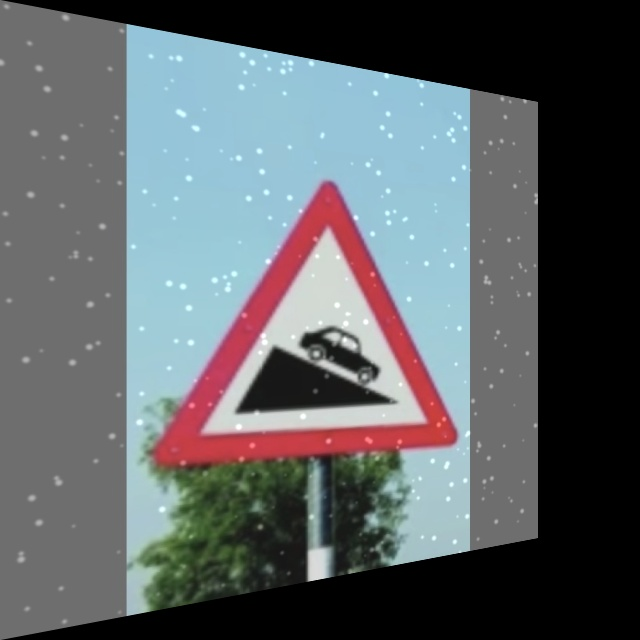Steep_Descent: (165, 170, 448, 477)
